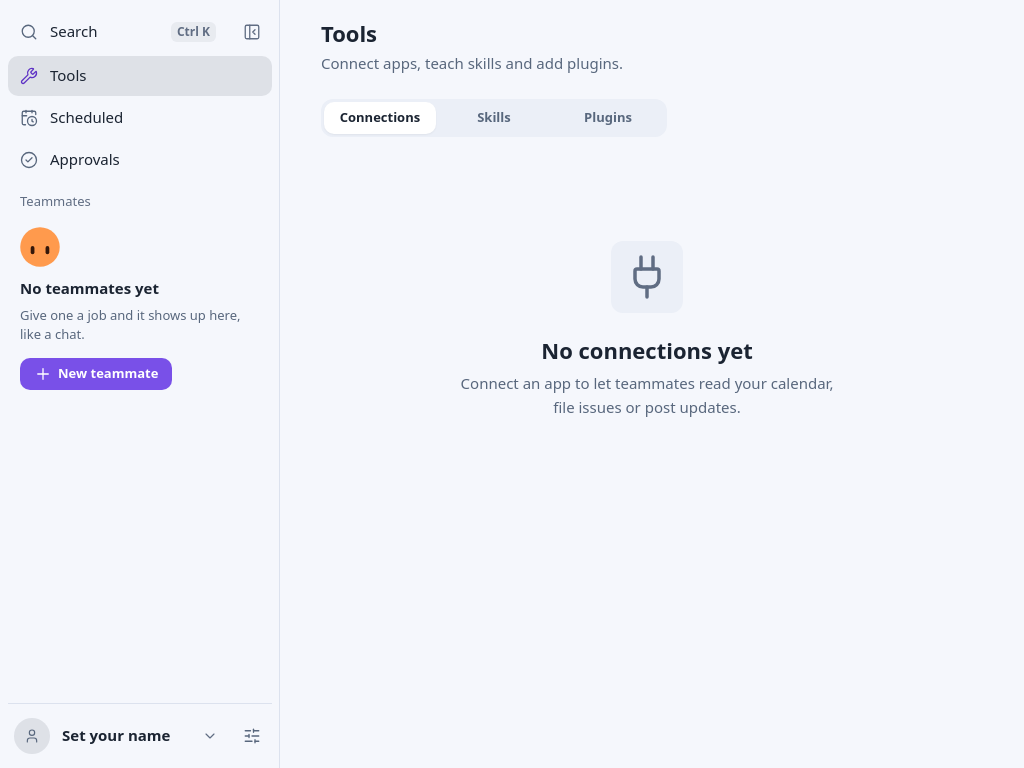
Scenario: tools page › keeps the tab in the URL
Click the tab "Skills". click: (494, 118)
box: [438,102,550,134]
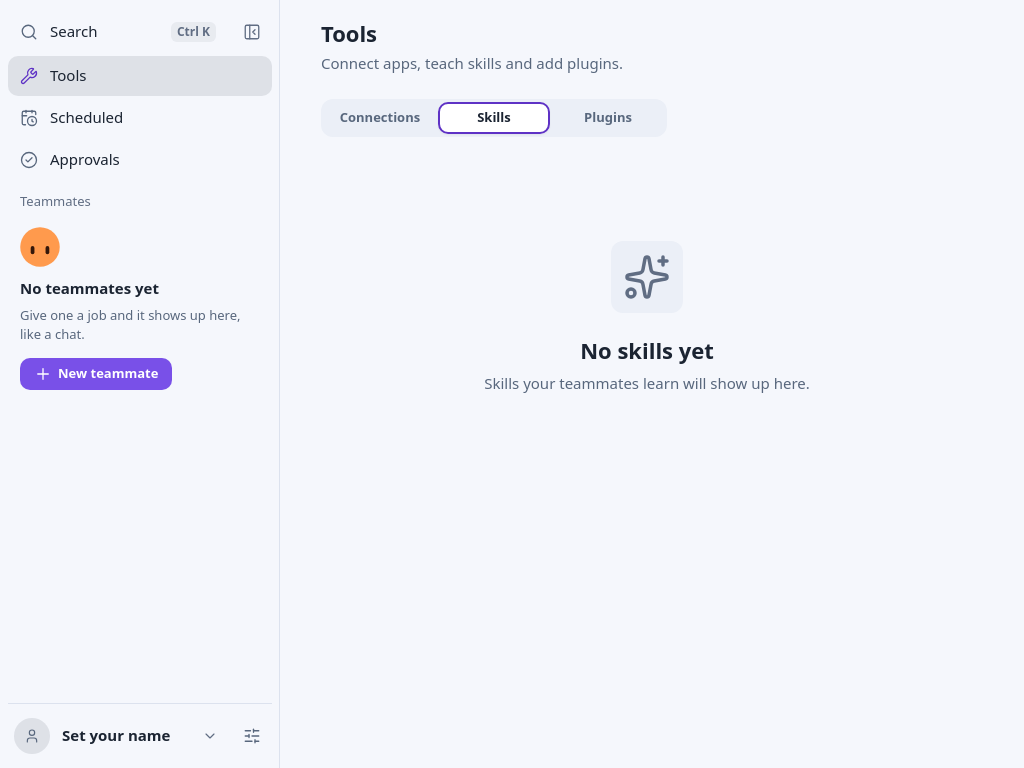
Expected: the heading "No skills yet" is shown, [580,337,714,364]
Expected: the text "Skills your teammates learn will show up here." is shown, [484,372,810,396]
Click the tab "Plugins". click: (608, 118)
box: [552,102,664,134]
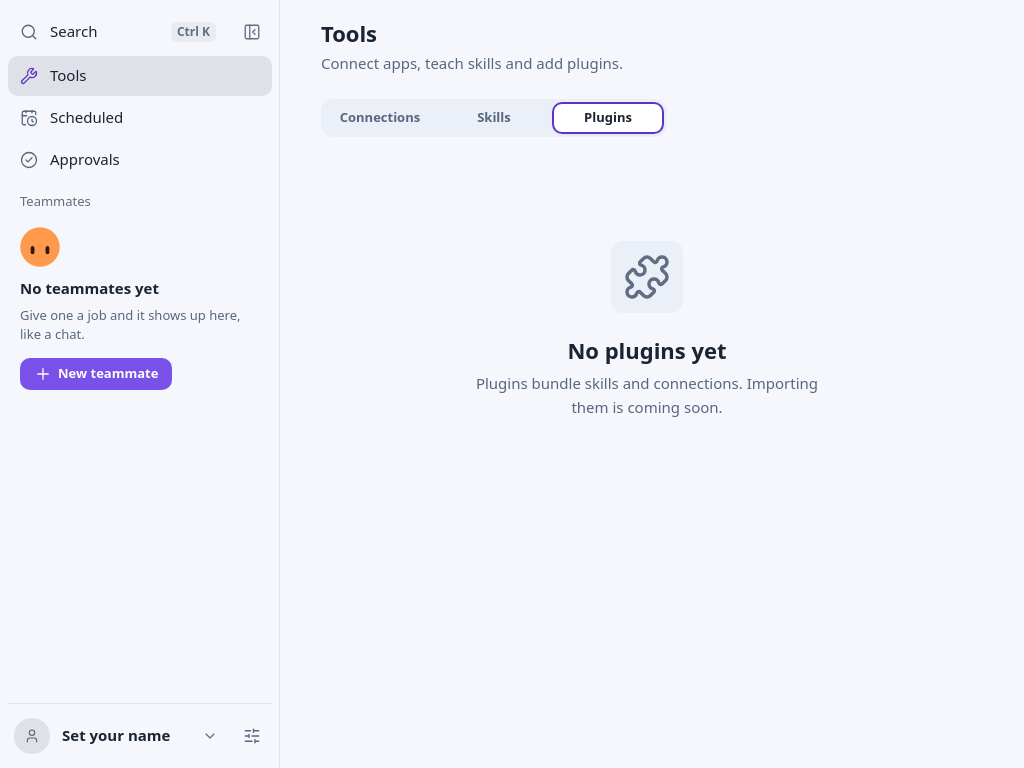
Expected: the heading "No plugins yet" is shown, [567,337,726,364]
Expected: the text "Plugins bundle skills and connections. Importing them is coming soon." is shown, [458,372,836,419]
